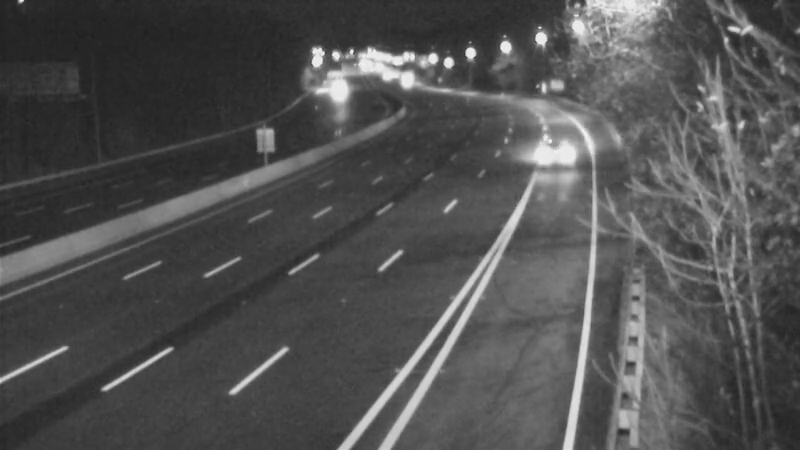vehicle: (384, 58, 434, 108), (531, 120, 581, 170), (315, 62, 365, 112)
